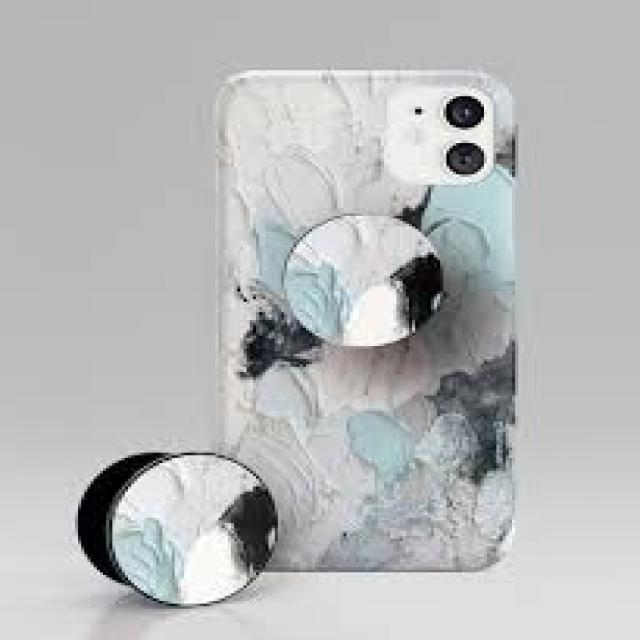mobile: (180, 40, 544, 605)
